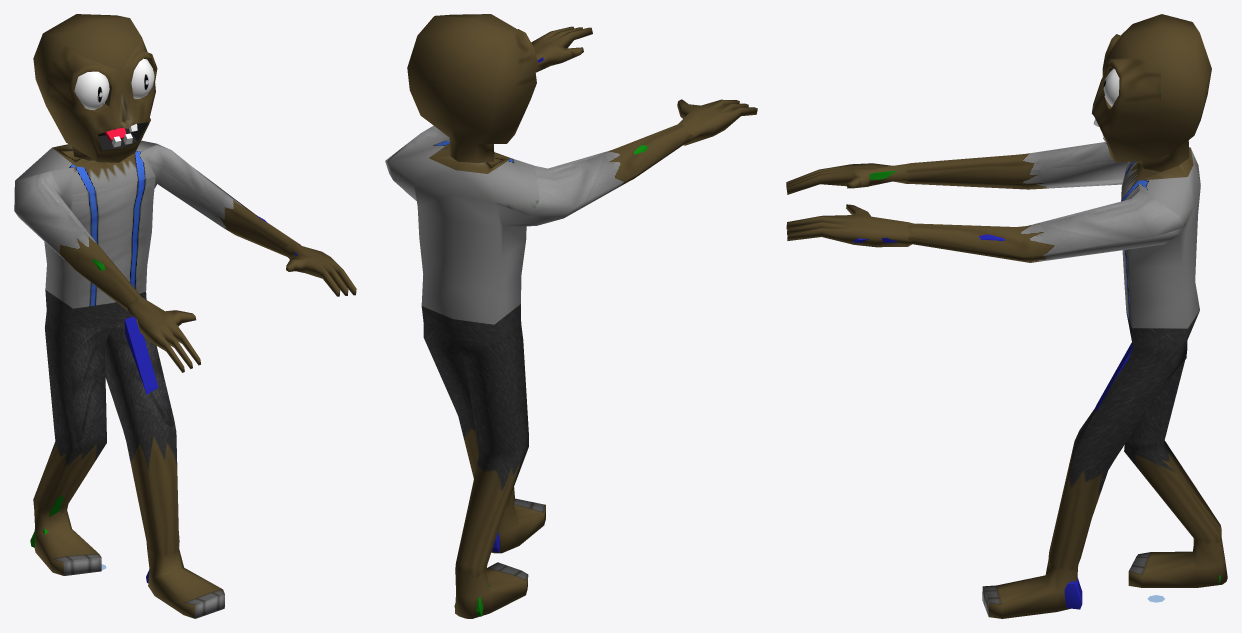
The model's file is zombie-attack.obj.
The picture shows the model from 3 angles, left to right: view 1: azimuth 30°, elevation 25°; view 2: azimuth 150°, elevation 25°; view 3: azimuth 270°, elevation 25°; orthographic projection. The views are drawn at different scales.
Visible parts, largest first — view 1: zombie, Bip01_L_Thigh; view 2: zombie; view 3: zombie.
Part boxes in pixels (x1,y1,x2,y2): zombie: [14, 14, 356, 618]; Bip01_L_Thigh: [124, 316, 158, 394]; zombie: [385, 14, 757, 618]; zombie: [786, 14, 1227, 618].
Size of what is drawn, in the model's own units: 58.84 by 159 by 111.
